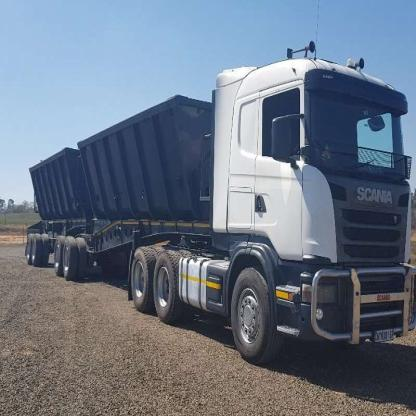dump_truck: (15, 53, 414, 380)
